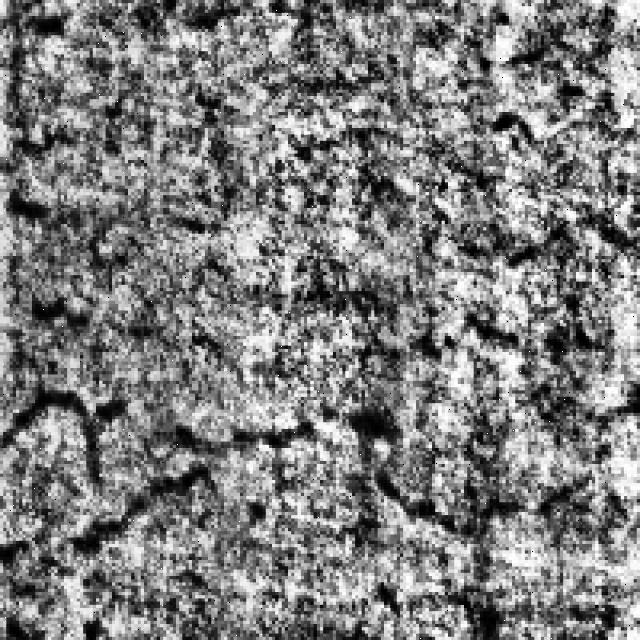Pitted_Surface: (3, 333, 614, 531), (22, 106, 640, 237)
